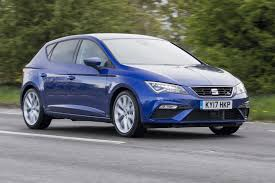car: (17, 32, 253, 143)
